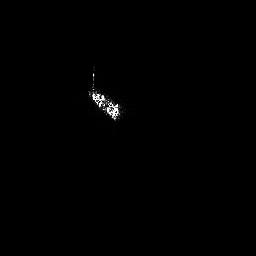ship: (82, 71, 123, 122)
